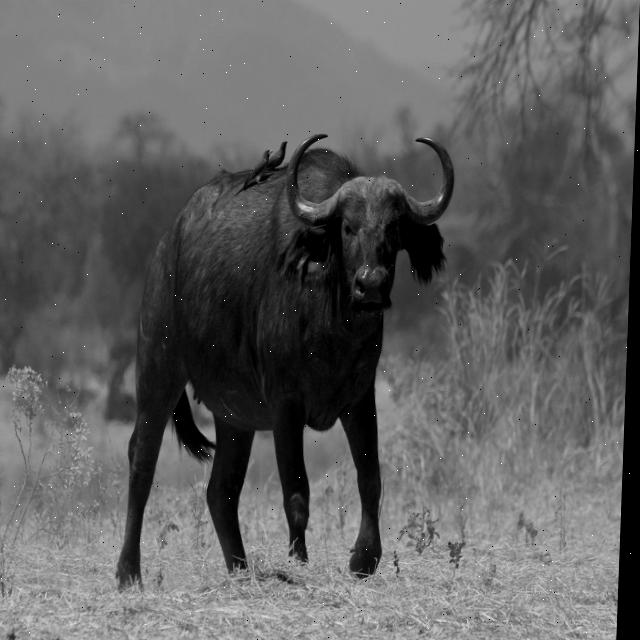Buffalo: (114, 133, 458, 593)
